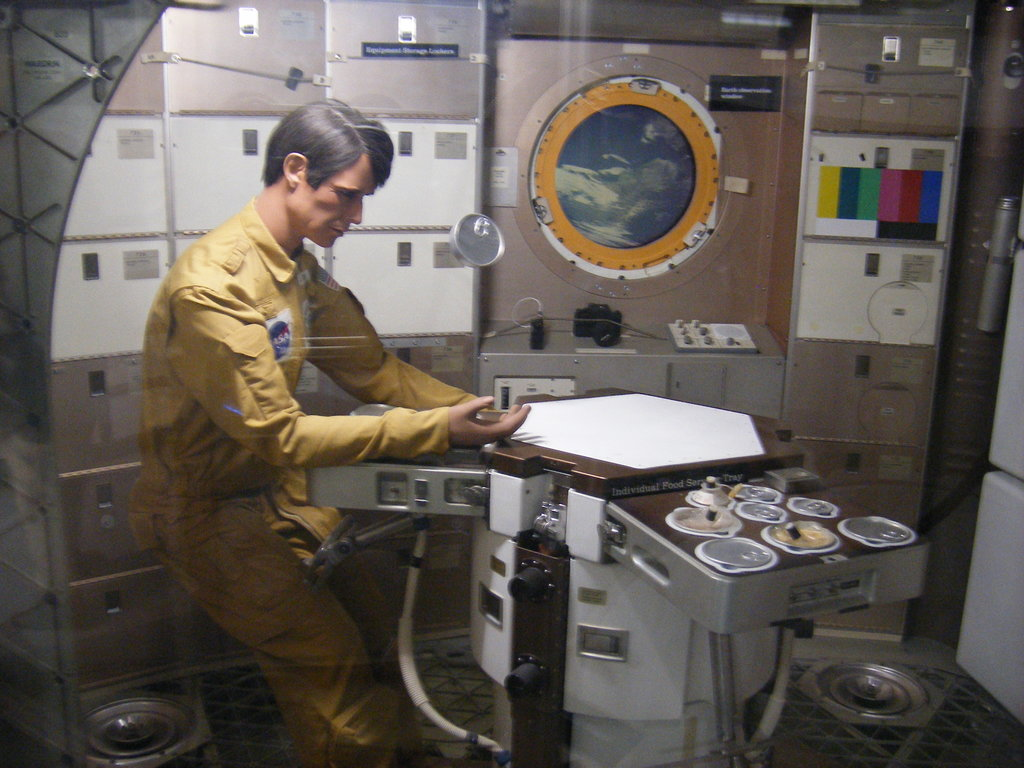Person: (121, 99, 530, 768)
